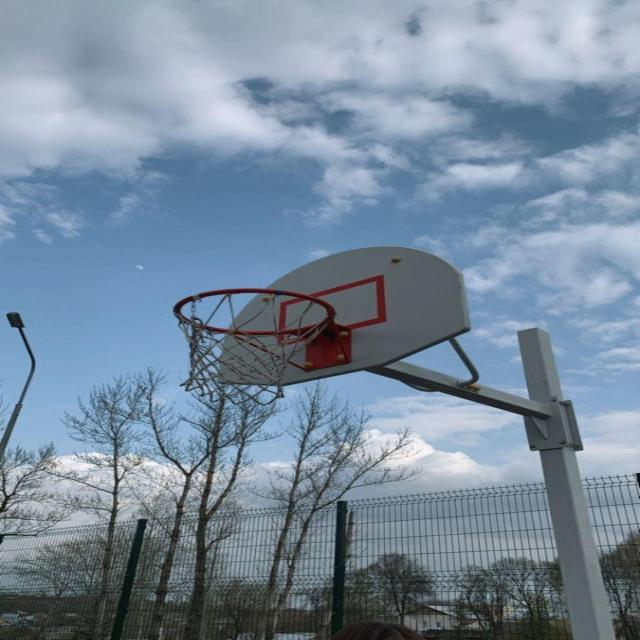hoop: (138, 274, 365, 422)
